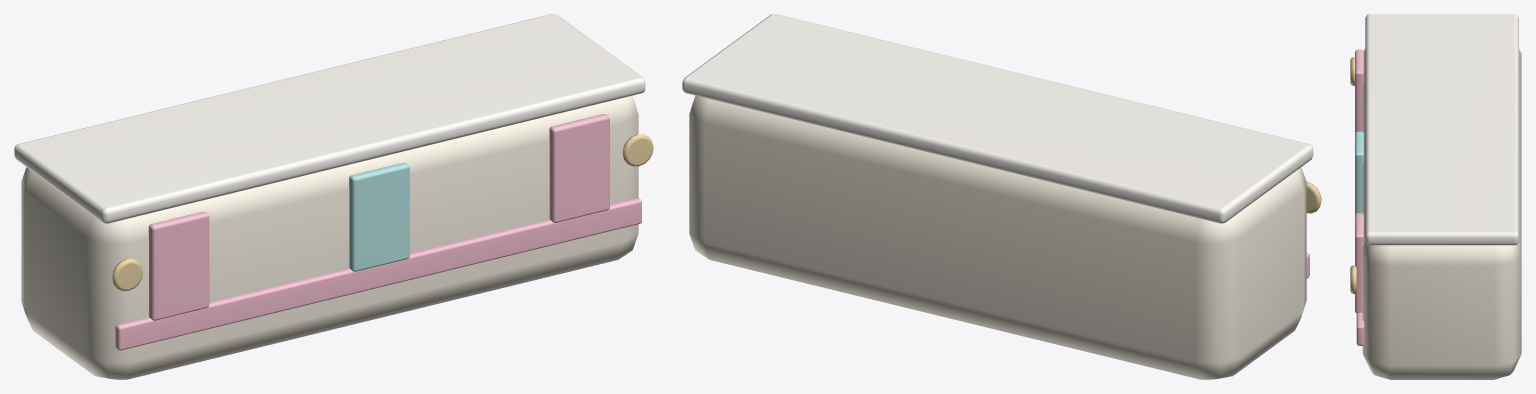
Rendered from Barrier.fbx.
3 views of the same model, side by side, from view 1: azimuth 30°, elevation 25°; view 2: azimuth 150°, elevation 25°; view 3: azimuth 270°, elevation 25° (orthographic). The views are drawn at different scales.
Parts seen in each view (by area): view 1: CreamRail, TopIcing, PinkLowerBand, CandyWrapper0, CandyWrapper1, CandyWrapper2, GoldStudR, GoldStudL; view 2: CreamRail, TopIcing; view 3: TopIcing, CreamRail, CandyWrapper2, CandyWrapper1, CandyWrapper0, PinkLowerBand, GoldStudR.
Part boxes in pixels (left/top/right/bottom): CreamRail: left=21, top=96, right=638, bottom=379; TopIcing: left=14, top=14, right=645, bottom=223; PinkLowerBand: left=115, top=198, right=641, bottom=350; CandyWrapper0: left=148, top=211, right=209, bottom=320; CandyWrapper1: left=349, top=162, right=409, bottom=271; CandyWrapper2: left=549, top=114, right=609, bottom=222; GoldStudR: left=622, top=134, right=653, bottom=166; GoldStudL: left=112, top=259, right=142, bottom=290; CreamRail: left=689, top=95, right=1306, bottom=379; TopIcing: left=682, top=14, right=1313, bottom=223; TopIcing: left=1365, top=14, right=1518, bottom=245; CreamRail: left=1362, top=49, right=1521, bottom=379; CandyWrapper2: left=1355, top=213, right=1364, bottom=313; CandyWrapper1: left=1355, top=131, right=1364, bottom=214; CandyWrapper0: left=1355, top=49, right=1364, bottom=133; PinkLowerBand: left=1356, top=312, right=1364, bottom=345; GoldStudR: left=1350, top=265, right=1356, bottom=294.
Size of the model in its own units: 200 by 64.95 by 64.65.
